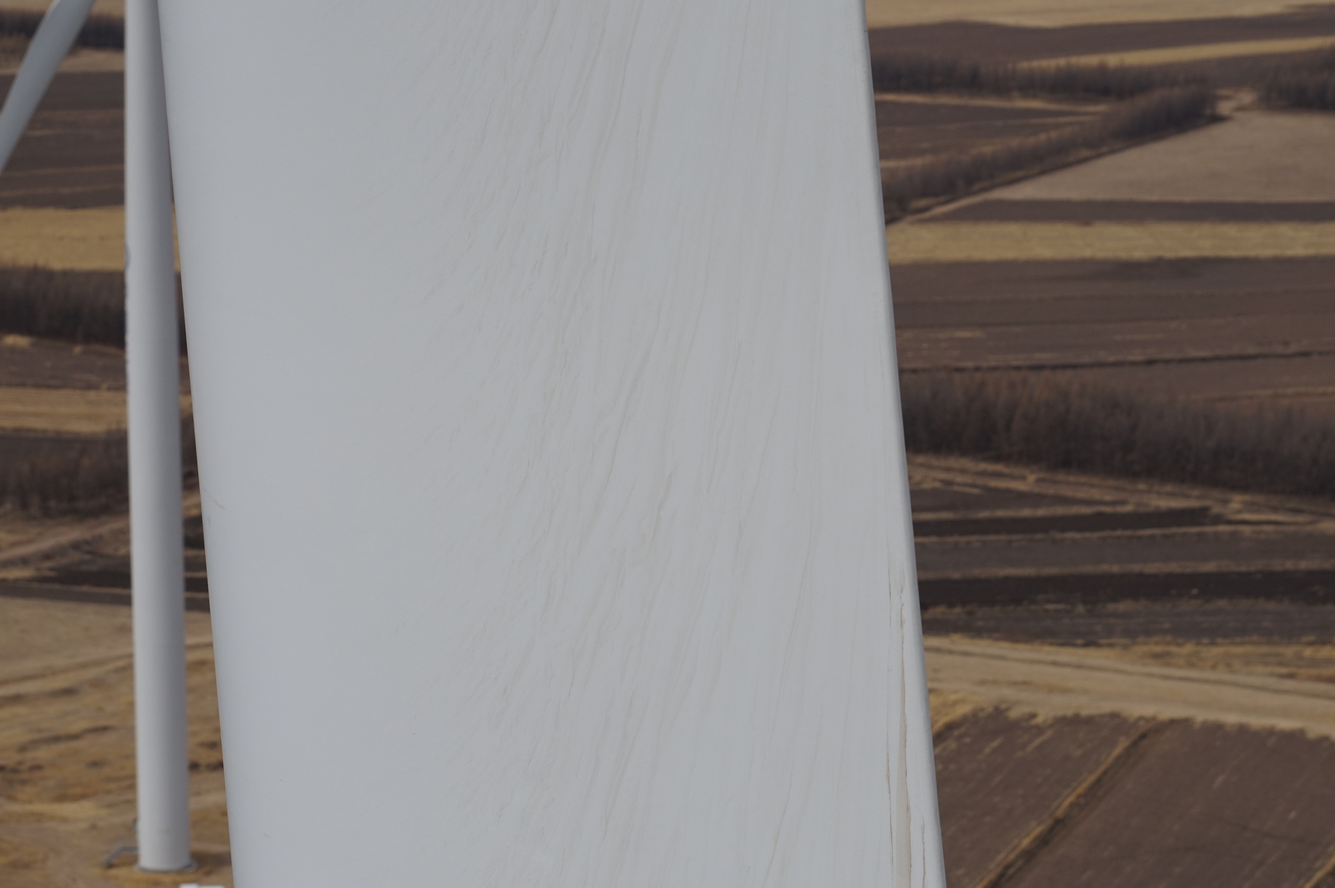Dirt: (895, 583, 928, 887)
